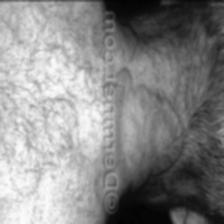Toxin: (115, 66, 187, 192)
